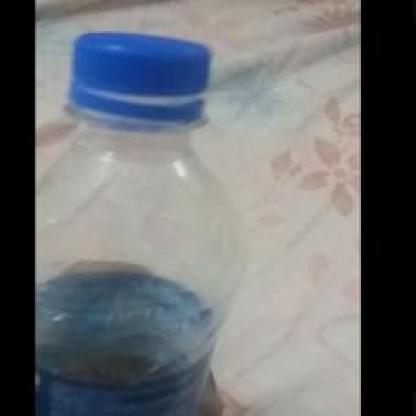bottle: (42, 20, 237, 414)
